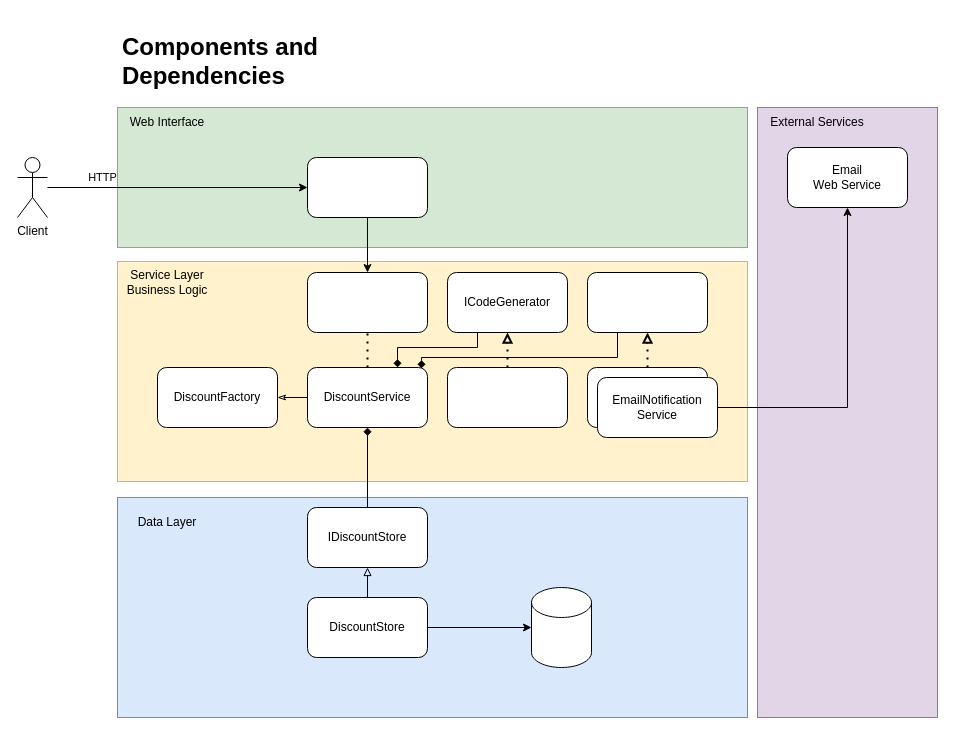
This 955x735 diagram has some shape labels left out. Each missing label, with the box of its shape:
CodeGenerator: (446, 366, 568, 428)
DiscountApi Controller: (306, 156, 428, 218)
IDiscountService: (306, 272, 428, 332)
INotificationService: (586, 272, 708, 332)
Mongo DB: (530, 586, 592, 668)
